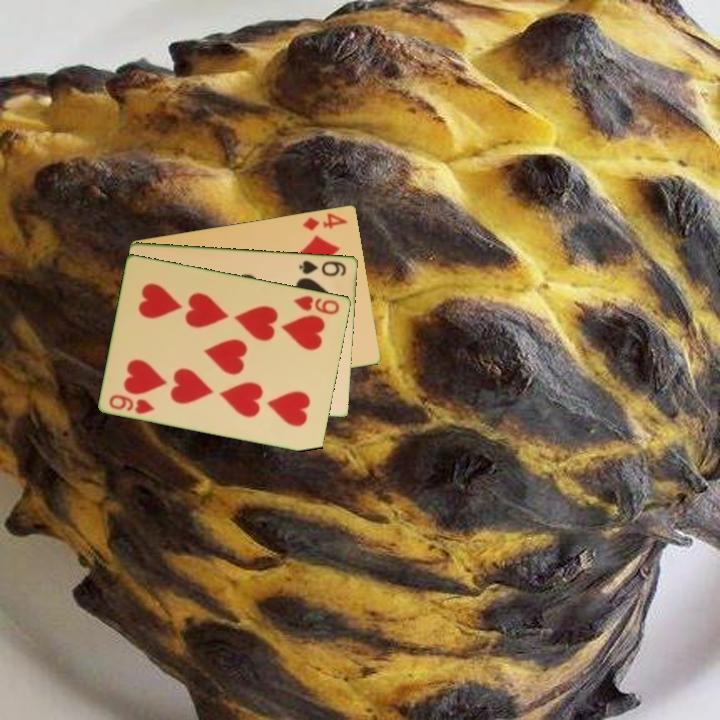4d: (299, 209, 351, 233)
6s: (296, 256, 349, 279)
9h: (106, 391, 158, 417), (290, 292, 343, 317)
